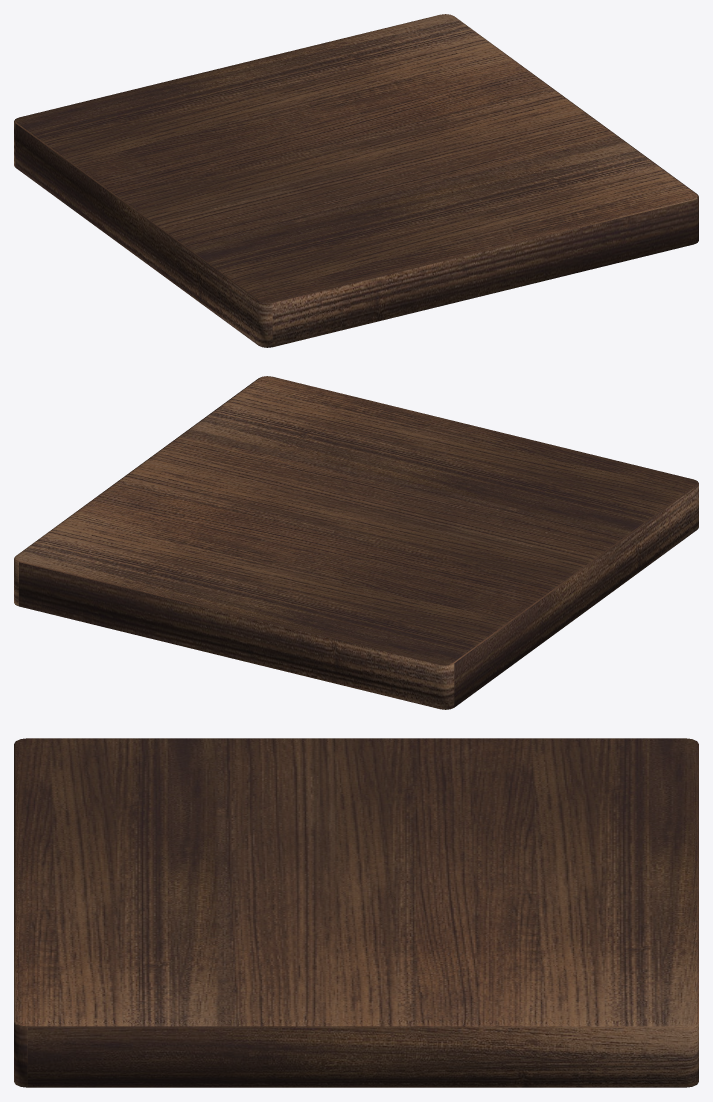
The model's file is spring base.fbx.
3 renders of one model, top to bottom at view 1: azimuth 30°, elevation 25°; view 2: azimuth 150°, elevation 25°; view 3: azimuth 270°, elevation 25°, orthographic. The views are drawn at different scales.
Visible parts, largest first — view 1: spring base; view 2: spring base; view 3: spring base.
Part boxes in pixels (x1,y1,x2,y2): spring base: (14,14,698,347); spring base: (14,376,698,709); spring base: (14,738,698,1087).
Size of the model in its own units: 187 by 18.76 by 187.
